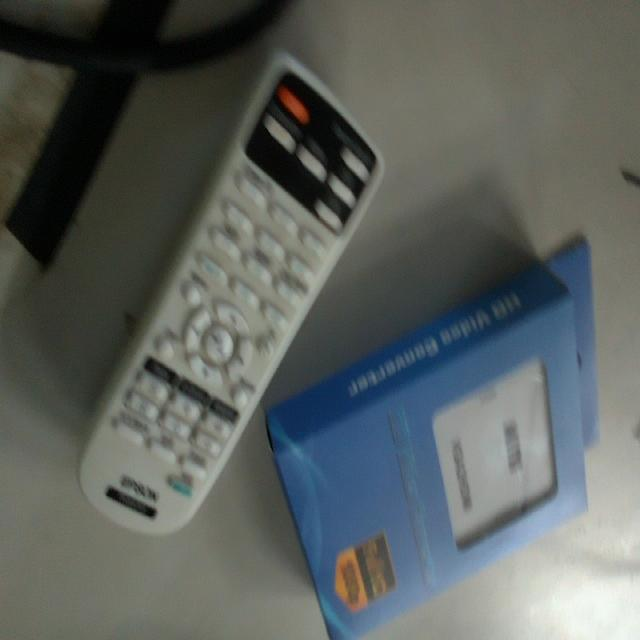remote: (88, 58, 384, 545), (269, 240, 608, 640)
